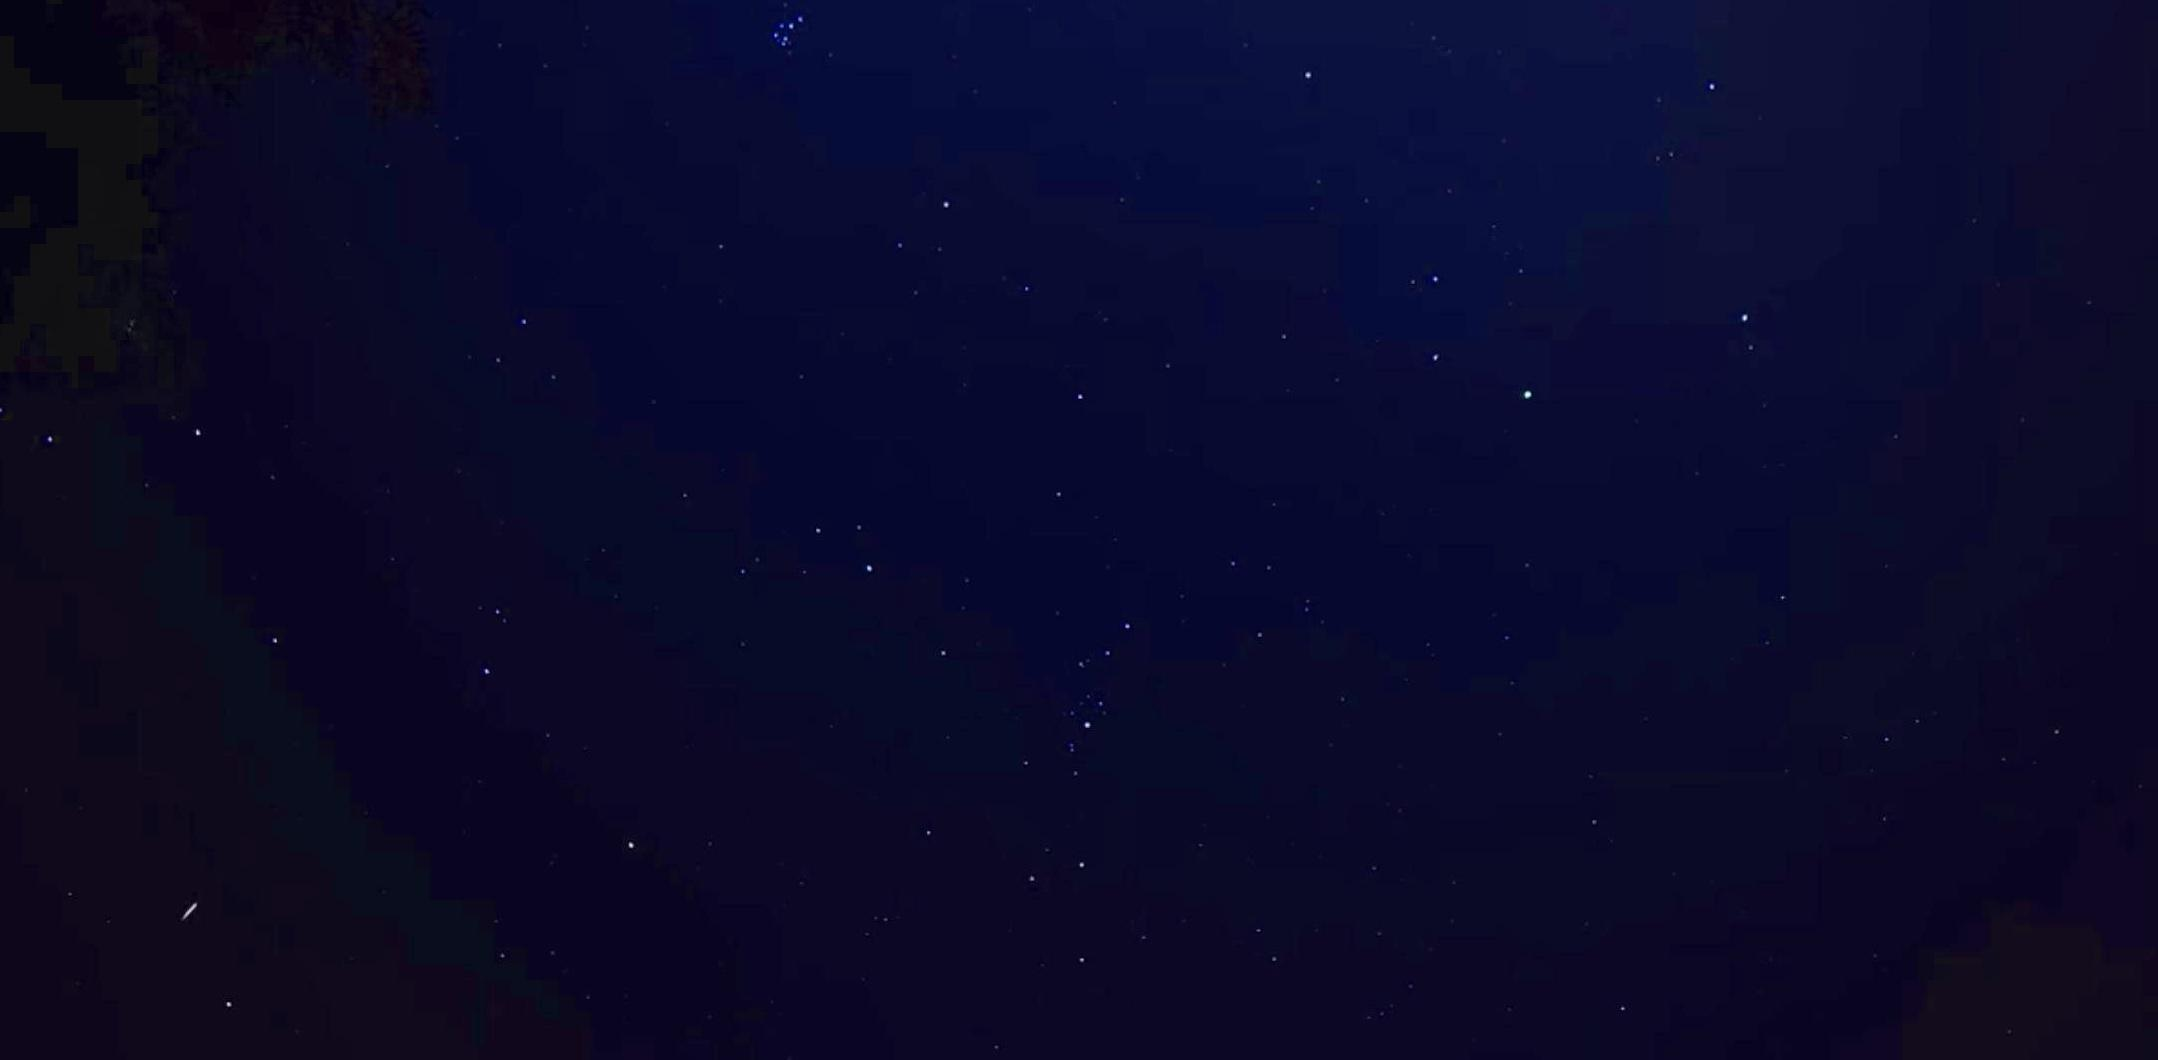meteorite: (147, 887, 230, 936)
